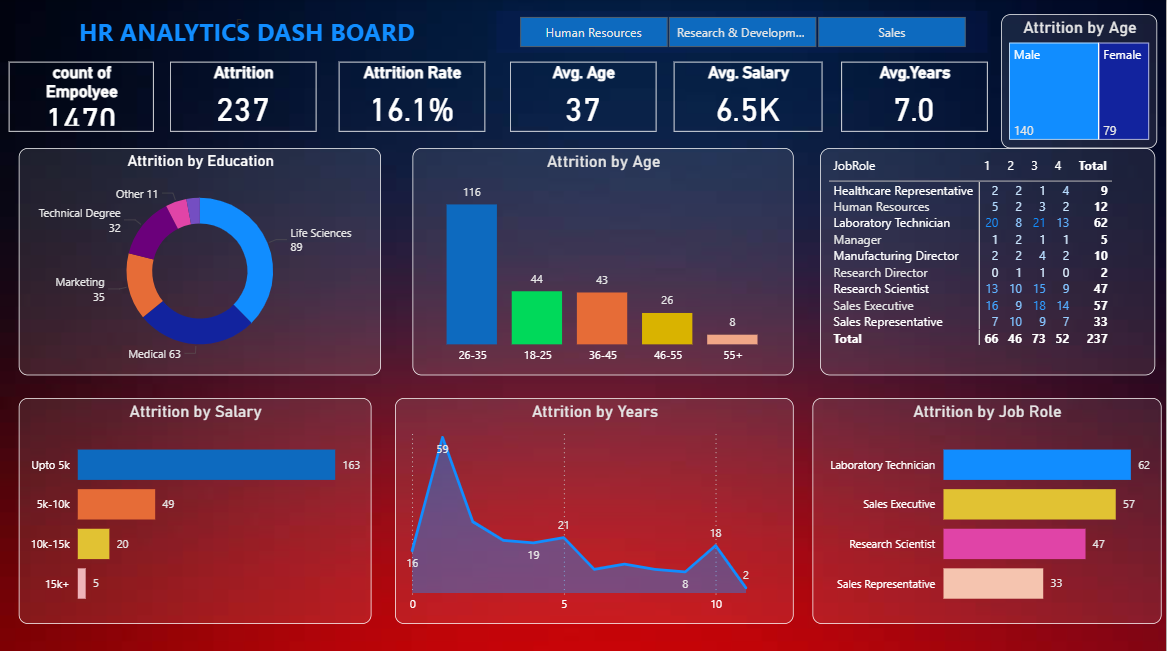

What the dashboard file says about the page in this screenshot:
{"tool":"powerbi","page":{"name":"Page 1","canvas":[1280,720],"ordinal":0},"visuals":[{"type":"card","title":"count of Empolyee","fields":{"Values":["CountNonNull(HR_Analytics (1).EmpID)"]},"box":[9.6,70,159.2,76.8],"z":0},{"type":"card","title":"Attrition","fields":{"Values":["Sum(HR_Analytics (1).AttritionCount)"]},"box":[186.6,70,160.5,76.8],"z":1},{"type":"card","title":"Attrition Rate","fields":{"Values":["HR_Analytics (1).AttritionRate"]},"box":[371.9,70,160.5,76.8],"z":2},{"type":"card","title":"Avg. Age ","fields":{"Values":["Avg(HR_Analytics (1).Age)"]},"box":[559.9,70,160.5,76.8],"z":3},{"type":"card","title":"Avg. Salary","fields":{"Values":["Avg(HR_Analytics (1).MonthlyIncome)"]},"box":[739.6,70,163.3,76.8],"z":4},{"type":"card","title":"Avg.Years","fields":{"Values":["Avg(HR_Analytics (1).YearsAtCompany)"]},"box":[923.5,70,160.5,76.8],"z":5},{"type":"columnChart","title":"Attrition by Age","fields":{"Category":["HR_Analytics (1).AgeGroup"],"Y":["Sum(HR_Analytics (1).AttritionCount)"]},"box":[452.8,164.7,418.5,249.7],"z":7},{"type":"pivotTable","fields":{"Rows":["HR_Analytics (1).JobRole"],"Columns":["HR_Analytics (1).JobSatisfaction"],"Values":["Sum(HR_Analytics (1).AttritionCount)"]},"box":[900.2,164.7,367.8,249.7],"z":8},{"type":"barChart","title":"Attrition by Salary","fields":{"Category":["HR_Analytics (1).SalarySlab"],"Y":["Sum(HR_Analytics (1).AttritionCount)"]},"box":[20.6,439.1,387,248.4],"z":9},{"type":"barChart","title":"Attrition by Job Role","fields":{"Y":["Sum(HR_Analytics (1).AttritionCount)"],"Category":["HR_Analytics (1).JobRole"]},"box":[891.9,439.1,382.8,248.4],"z":10},{"type":"areaChart","title":"Attrition by Years","fields":{"Y":["Sum(HR_Analytics (1).AttritionCount)"],"Category":["HR_Analytics (1).YearsAtCompany"]},"box":[433.6,439.1,437.7,248.4],"z":11},{"type":"treemap","title":"Attrition by Age","fields":{"Group":["HR_Analytics (1).Gender"],"Values":["Sum(HR_Analytics (1).AttritionCount)"]},"box":[1099.1,17.8,171.5,146.8],"z":12},{"type":"slicer","fields":{"Values":["HR_Analytics (1).Department"]},"box":[532.4,13.7,554.4,46.7],"z":13},{"type":"donutChart","title":"Attrition by Education","fields":{"Category":["HR_Analytics (1).EducationField"],"Y":["Sum(HR_Analytics (1).AttritionCount)"]},"box":[20.6,164.7,397.9,249.7],"z":14},{"type":"textbox","box":[9.6,13.7,505,46.7],"z":15}]}

Visuals, with their boxes in screenshot pixels (x1, y1, x2, y2), scaled from the page's 1280x720 canvas onto the 1167x651 screenshot:
"count of Empolyee" card: x1=9, y1=63, x2=154, y2=133
"Attrition" card: x1=170, y1=63, x2=316, y2=133
"Attrition Rate" card: x1=339, y1=63, x2=485, y2=133
"Avg. Age " card: x1=510, y1=63, x2=657, y2=133
"Avg. Salary" card: x1=674, y1=63, x2=823, y2=133
"Avg.Years" card: x1=842, y1=63, x2=988, y2=133
"Attrition by Age" columnChart: x1=413, y1=149, x2=794, y2=375
pivotTable - HR_Analytics (1).JobRole x HR_Analytics (1).JobSatisfaction: x1=821, y1=149, x2=1156, y2=375
"Attrition by Salary" barChart: x1=19, y1=397, x2=372, y2=622
"Attrition by Job Role" barChart: x1=813, y1=397, x2=1162, y2=622
"Attrition by Years" areaChart: x1=395, y1=397, x2=794, y2=622
"Attrition by Age" treemap: x1=1002, y1=16, x2=1158, y2=149
slicer - HR_Analytics (1).Department: x1=485, y1=12, x2=991, y2=55
"Attrition by Education" donutChart: x1=19, y1=149, x2=382, y2=375
textbox: x1=9, y1=12, x2=469, y2=55
